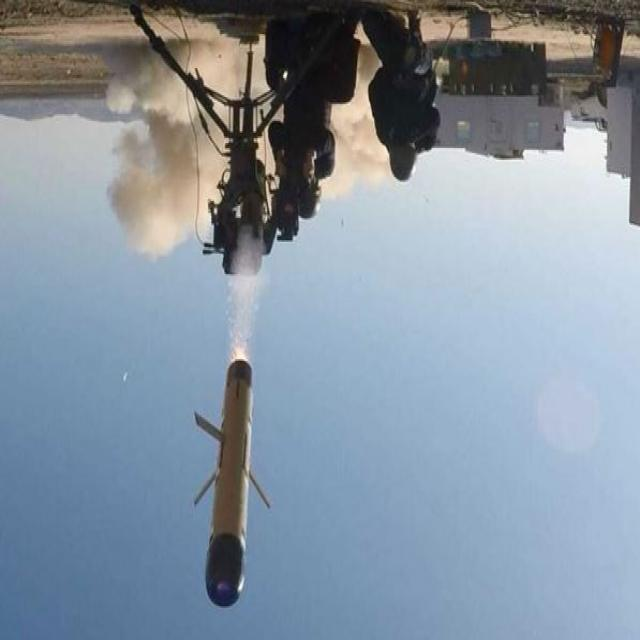missile: (177, 353, 279, 617)
